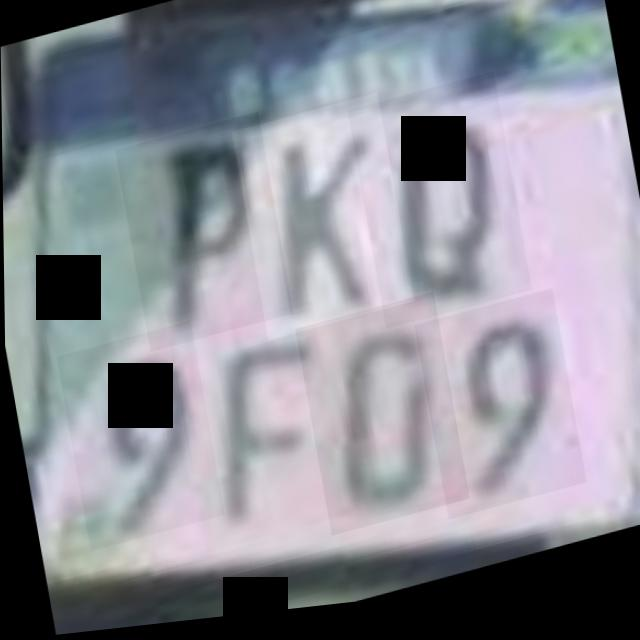0: (294, 299, 469, 546)
9: (413, 298, 586, 532), (55, 322, 223, 555)
F: (167, 305, 348, 560)
K: (231, 98, 414, 350)
O: (347, 80, 531, 341)
P: (114, 115, 293, 358)
